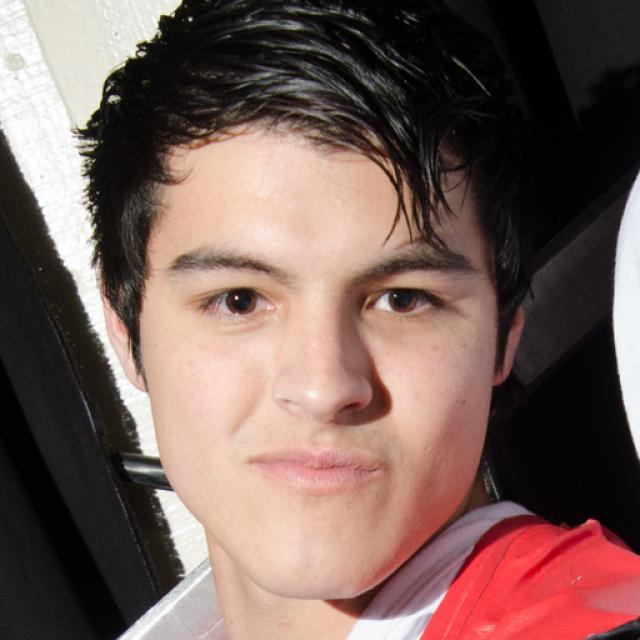content: (140, 103, 498, 596)
